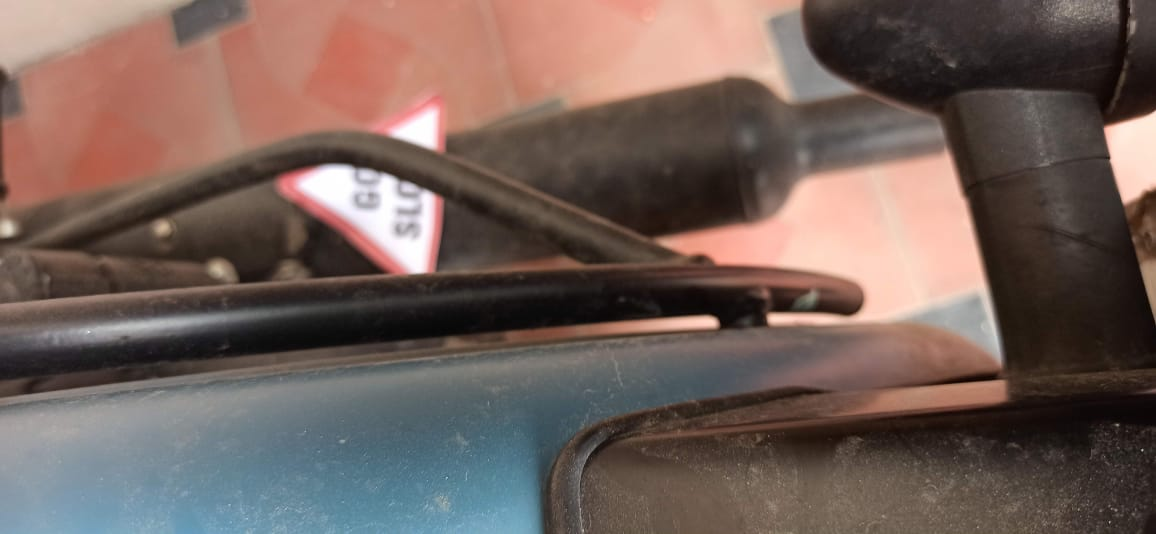GO SLOW: (274, 87, 472, 284)
